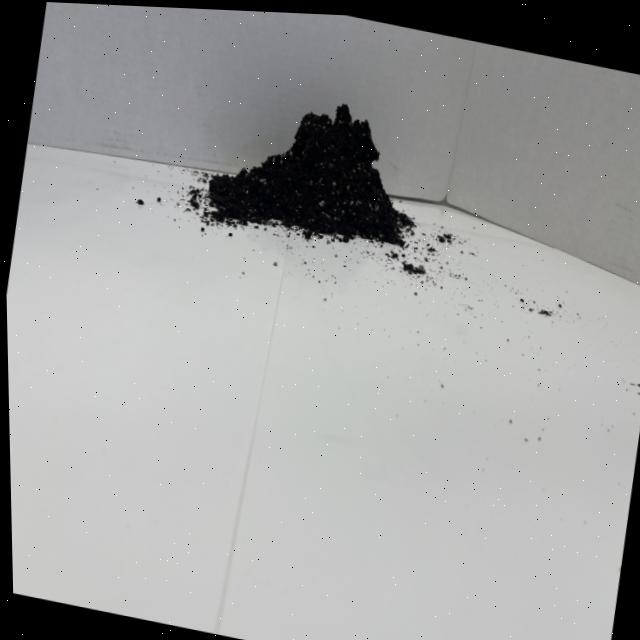soil: (199, 75, 434, 261)
